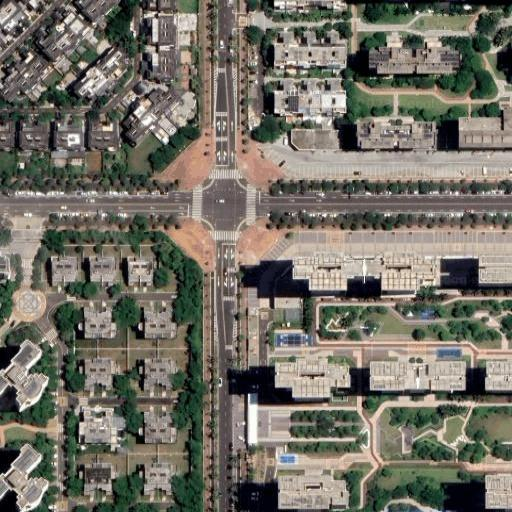building: (290, 251, 441, 292), (74, 42, 134, 104), (0, 338, 52, 409), (0, 442, 52, 512), (121, 85, 179, 143), (273, 358, 350, 400), (33, 6, 87, 61), (368, 360, 466, 390), (369, 47, 458, 75), (277, 474, 348, 508), (145, 14, 178, 85), (4, 46, 52, 93), (458, 109, 512, 148), (358, 122, 436, 147), (273, 42, 348, 67), (274, 91, 346, 114), (150, 110, 185, 145), (80, 408, 116, 441), (293, 128, 353, 147), (0, 2, 26, 43), (87, 118, 117, 153), (141, 307, 176, 337), (479, 252, 512, 283), (143, 413, 176, 441), (85, 307, 115, 337), (143, 358, 175, 386), (484, 360, 512, 391), (484, 475, 512, 506), (144, 463, 172, 493), (20, 118, 46, 150), (85, 463, 111, 495), (82, 358, 112, 385), (53, 121, 81, 149), (126, 255, 154, 282), (242, 392, 256, 446), (89, 256, 113, 282), (50, 257, 75, 281), (274, 297, 305, 307), (0, 254, 11, 282), (306, 77, 316, 92), (330, 78, 340, 92), (113, 416, 125, 427), (111, 463, 119, 479), (285, 78, 293, 92), (328, 31, 336, 44), (306, 32, 315, 43), (285, 32, 292, 43), (111, 363, 118, 374), (139, 428, 143, 434)
